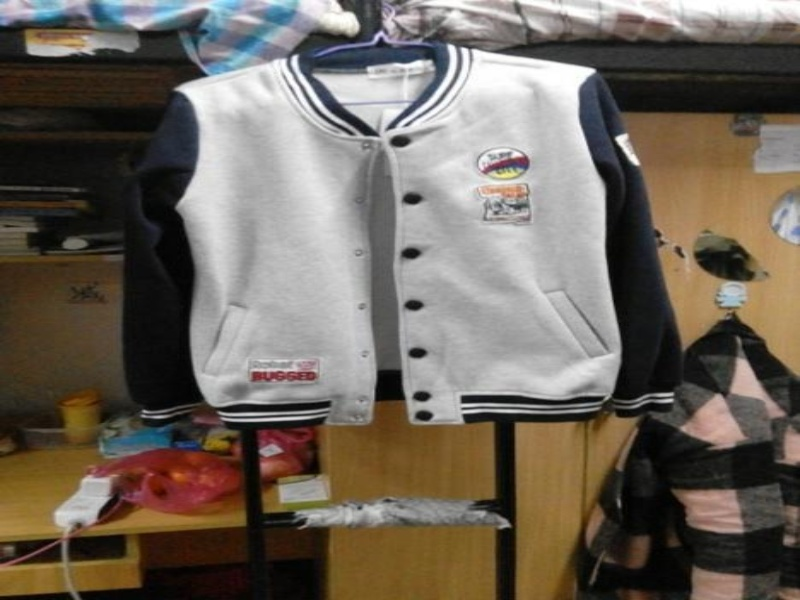long_sleeved_outwear: (113, 40, 684, 432)
